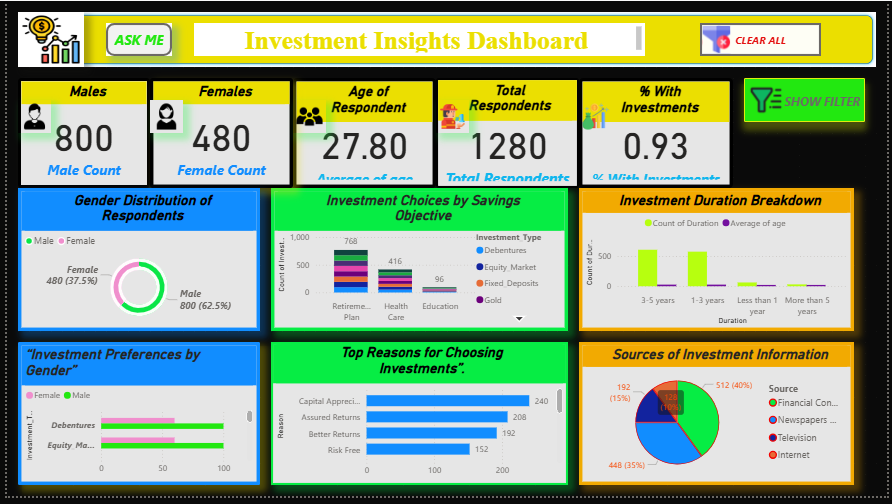

The page's visual inventory and layout, read from the dashboard file:
{"tool":"powerbi","page":{"name":"DASHBOARD","canvas":[1280,720],"ordinal":6},"visuals":[{"type":"pieChart","title":"Sources of Investment Information","fields":{"Category":["Data_set 2.Source"],"Y":["CountNonNull(Data_set 2.Source)"]},"box":[832,496,400,208],"z":0},{"type":"columnChart","title":"Investment Choices by Savings Objective","fields":{"Category":["Data_set 2.What are your savings objectives?"],"Series":["Data_set 2.Investment_Type"],"Y":["CountNonNull(Data_set 2.Investment_Value)"]},"box":[384,272,432,208],"z":1000},{"type":"clusteredColumnChart","title":"Investment Duration Breakdown","fields":{"Category":["Data_set 2.Duration"],"Y":["CountNonNull(Data_set 2.Duration)","Avg(Data_set 2.age)"]},"box":[832,272,400,208],"z":2000},{"type":"card","title":"Age of Respondent","fields":{"Values":["Avg(Data_set 2.age)"]},"box":[416,112,208,160],"z":3000},{"type":"card","title":"Total Respondents","fields":{"Values":["Data_set 2.Total Respondents"]},"box":[624,112,208,160],"z":4000},{"type":"shape","box":[16,16,1248,80],"z":5000},{"type":"image","box":[16,16,96,80],"z":6000},{"type":"card","title":"Males","fields":{"Values":["Data_set 2.Male Count"]},"box":[16,112,192,160],"z":7000},{"type":"actionButton","box":[144,32,96,48],"z":8000},{"type":"card","title":"Females","fields":{"Values":["Data_set 2.Female Count"]},"box":[208,112,208,160],"z":9000},{"type":"clusteredBarChart","title":"Top Reasons for Choosing Investments”.","fields":{"Category":["Data_set 2.Reason"],"Y":["CountNonNull(Data_set 2.Reason)"]},"box":[384,496,432,208],"z":11000},{"type":"donutChart","title":"Gender Distribution of Respondents","fields":{"Y":["CountNonNull(Data_set 2.Investment_Value)"],"Category":["Data_set 2.gender"]},"box":[16,272,352,208],"z":12000},{"type":"actionButton","title":"Btn_ShowFilters.","box":[1072,112,176,64],"z":13000},{"type":"clusteredBarChart","title":"“Investment Preferences by Gender”","fields":{"Category":["Data_set 2.Investment_Type"],"Y":["CountNonNull(Data_set 2.Investment_Value)"],"Series":["Data_set 2.gender"]},"box":[16,496,352,208],"z":14000},{"type":"image","box":[16,144,48,48],"z":16000},{"type":"image","box":[416,144,48,48],"z":17000},{"type":"image","box":[624,144,48,48],"z":18000},{"type":"card","title":"% With Investments","fields":{"Values":["Data_set 2.% With Investments"]},"box":[832,112,224,160],"z":19000},{"type":"image","box":[208,144,48,48],"z":20000},{"type":"textbox","box":[272,32,656,48],"z":21000},{"type":"image","box":[832,144,48,48],"z":22000},{"type":"actionButton","box":[1008,32,176,48],"z":23000}]}

Visuals, with their boxes in screenshot pixels (x1, y1, x2, y2), scaled from the page's 1280x720 canvas onto the 892x504 screenshot:
"Sources of Investment Information" pieChart: 580:347:859:493
"Investment Choices by Savings Objective" columnChart: 268:190:569:336
"Investment Duration Breakdown" clusteredColumnChart: 580:190:859:336
"Age of Respondent" card: 290:78:435:190
"Total Respondents" card: 435:78:580:190
shape: 11:11:881:67
image: 11:11:78:67
"Males" card: 11:78:145:190
actionButton: 100:22:167:56
"Females" card: 145:78:290:190
"Top Reasons for Choosing Investments”." clusteredBarChart: 268:347:569:493
"Gender Distribution of Respondents" donutChart: 11:190:256:336
"Btn_ShowFilters." actionButton: 747:78:870:123
"“Investment Preferences by Gender”" clusteredBarChart: 11:347:256:493
image: 11:101:45:134
image: 290:101:323:134
image: 435:101:468:134
"% With Investments" card: 580:78:736:190
image: 145:101:178:134
textbox: 190:22:647:56
image: 580:101:613:134
actionButton: 702:22:825:56
